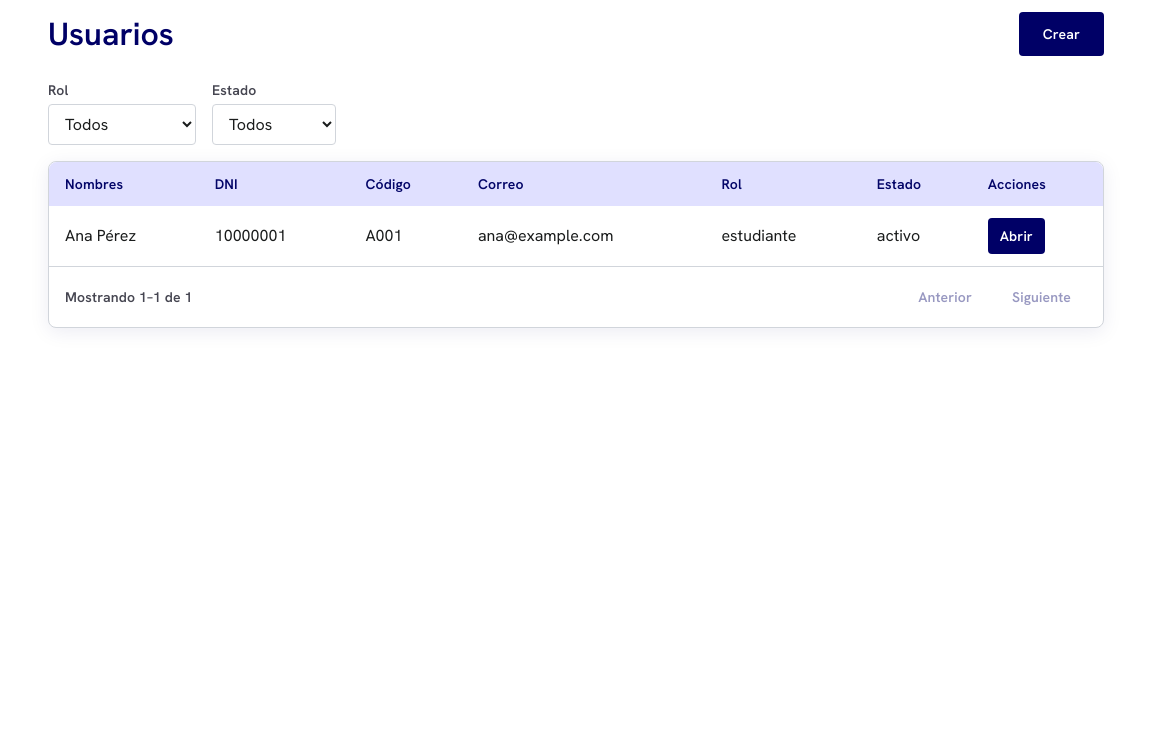
Test: UsuariosPage › [gap-crear] click en "Crear" monta FichaUsuarioPage en modo creación, sin cambiar la URL
Expected: the text "Ana Pérez" is shown, [49,206,199,266]
Click the button "Crear" at (1061, 34), box [1019,12,1104,56]
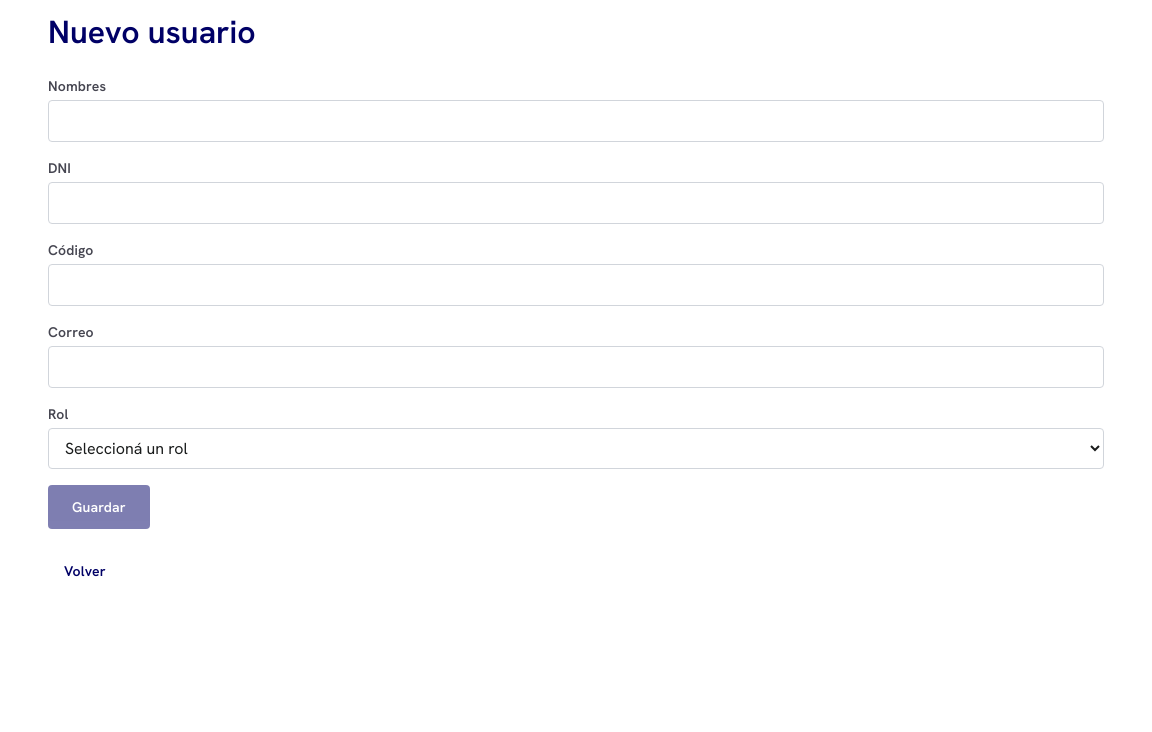
Expected: the element with test id "ficha-usuario-page" is shown
Expected: the heading "Nuevo usuario" is shown, [48,11,256,53]
